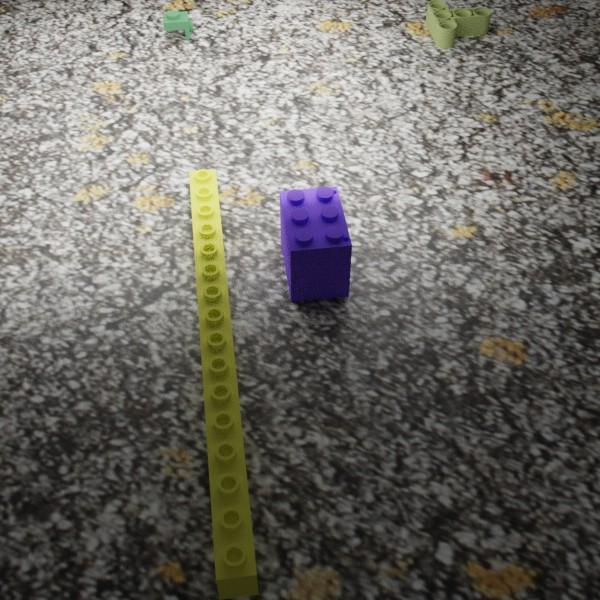lego: (189, 169, 258, 600), (279, 186, 352, 301), (425, 0, 491, 48), (162, 10, 193, 40)
